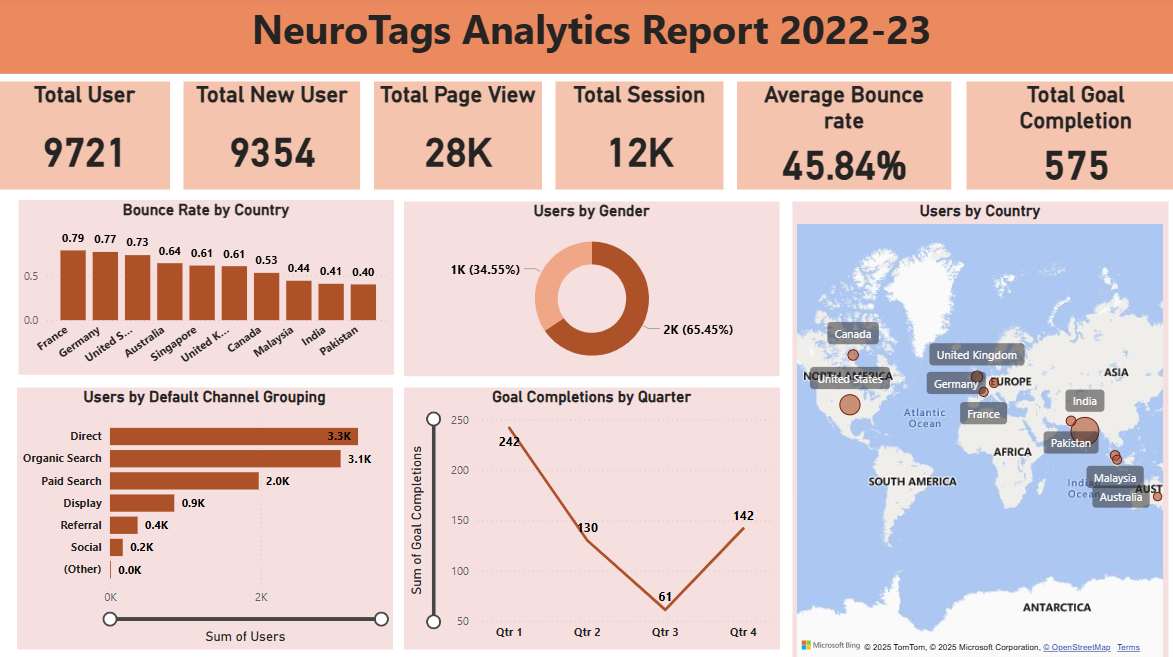

Layout of this report page (visuals, bound fields, positions):
{"tool":"powerbi","page":{"name":"Page 1","canvas":[1280,720],"ordinal":0},"visuals":[{"type":"card","title":"Total User","fields":{"Values":["Sum(Acquisition.Users)"]},"box":[0,92.2,184.4,116.5],"z":0},{"type":"card","title":"Total New User","fields":{"Values":["Sum(Acquisition.New Users)"]},"box":[199.3,92.2,190.9,116.5],"z":1000},{"type":"card","title":"Total Page View","fields":{"Values":["Sum(Pageview.Pageviews)"]},"box":[405.1,92.2,181.2,116.5],"z":2000},{"type":"card","title":"Total Session","fields":{"Values":["Sum(Acquisition.Sessions)"]},"box":[601.2,92.2,181.2,116.5],"z":3000},{"type":"card","title":"Average Bounce rate","fields":{"Values":["Avg(Acquisition.Bounce Rate)"]},"box":[797.3,92.2,231.4,116.5],"z":4000},{"type":"card","title":"Total Goal Completion","fields":{"Values":["Sum(Goal.Goal Completions)"]},"box":[1043.6,92.2,236.2,116.5],"z":5000},{"type":"textbox","box":[0,0,1279.8,84.1],"z":6000},{"type":"clusteredBarChart","title":" Users by Default Channel Grouping","fields":{"Category":["Acquisition.Default Channel Grouping"],"Y":["Sum(Acquisition.Users)"]},"box":[20,423.3,405,281.7],"z":7000},{"type":"lineChart","title":"Goal Completions by Quarter","fields":{"Y":["Sum(Goal.Goal Completions)"],"Category":["Pageview.Day Index.Variation.Date Hierarchy.Quarter"]},"box":[436.7,423.3,405,281.7],"z":8000},{"type":"map","title":"Users by Country","fields":{"Category":["location.Country"],"Size":["Sum(location.Users)"]},"box":[856.7,221.7,405,498.3],"z":9000},{"type":"donutChart","title":"Users by Gender","fields":{"Category":["Gender.Gender"],"Y":["Sum(Gender.Users)"]},"box":[436.7,221.7,405,188.3],"z":10000},{"type":"columnChart","title":"Bounce Rate by Country","fields":{"Category":["location.Country"],"Y":["Sum(location.Bounce Rate)"]},"box":[20.3,220.8,405.1,188.4],"z":10001}]}

Visuals, with their boxes in screenshot pixels (x1, y1, x2, y2), scaled from the page's 1280x720 canvas onto the 1173x657 screenshot:
"Total User" card: [left=0, top=84, right=169, bottom=190]
"Total New User" card: [left=183, top=84, right=358, bottom=190]
"Total Page View" card: [left=371, top=84, right=537, bottom=190]
"Total Session" card: [left=551, top=84, right=717, bottom=190]
"Average Bounce rate" card: [left=731, top=84, right=943, bottom=190]
"Total Goal Completion" card: [left=956, top=84, right=1172, bottom=190]
textbox: [left=0, top=0, right=1172, bottom=77]
" Users by Default Channel Grouping" clusteredBarChart: [left=18, top=386, right=389, bottom=643]
"Goal Completions by Quarter" lineChart: [left=400, top=386, right=771, bottom=643]
"Users by Country" map: [left=785, top=202, right=1156, bottom=656]
"Users by Gender" donutChart: [left=400, top=202, right=771, bottom=374]
"Bounce Rate by Country" columnChart: [left=19, top=201, right=390, bottom=373]
